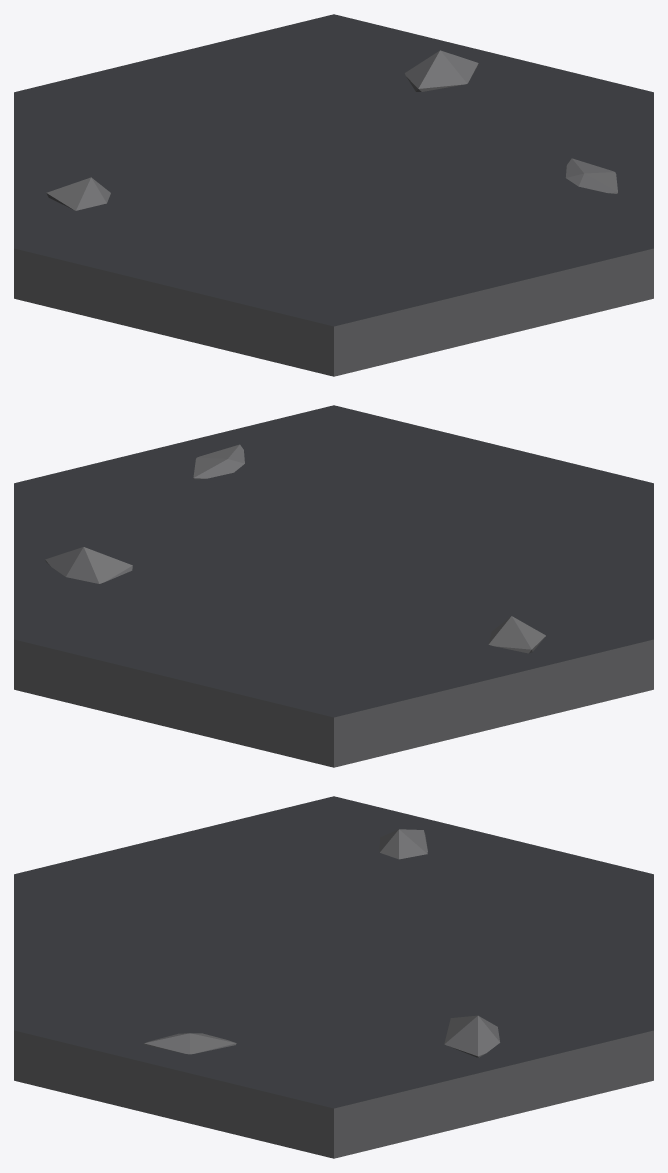
File: tile_concrete.glb
3 views of the same model, one above another, from view 1: azimuth 30°, elevation 25°; view 2: azimuth 150°, elevation 25°; view 3: azimuth 270°, elevation 25° (orthographic).
Parts seen in each view (by area): view 1: tile_concrete; view 2: tile_concrete; view 3: tile_concrete.
Part boxes in pixels (x1=…): tile_concrete: x1=14, y1=14, x2=653, y2=376; tile_concrete: x1=14, y1=405, x2=653, y2=767; tile_concrete: x1=14, y1=796, x2=653, y2=1158.
Size of the model in its own units: 2 by 0.2211 by 1.73.
1 material, 1 textured.
